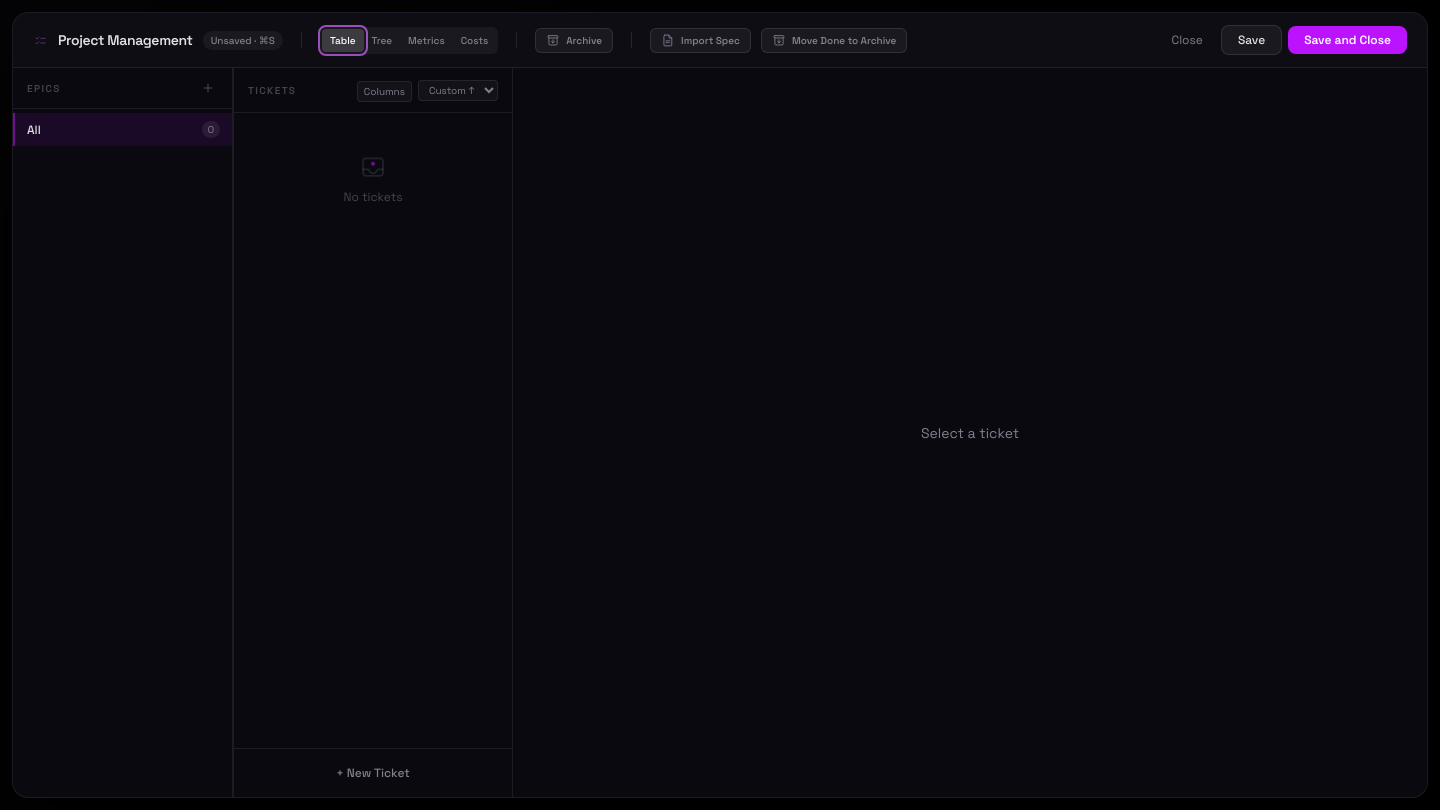
ProjectManagerModal › keeps unsaved changes when the discard is declined
The width and height of the screenshot is (1440, 810).
Click the button "Close" at (1187, 40), box [1160,26,1215,54]
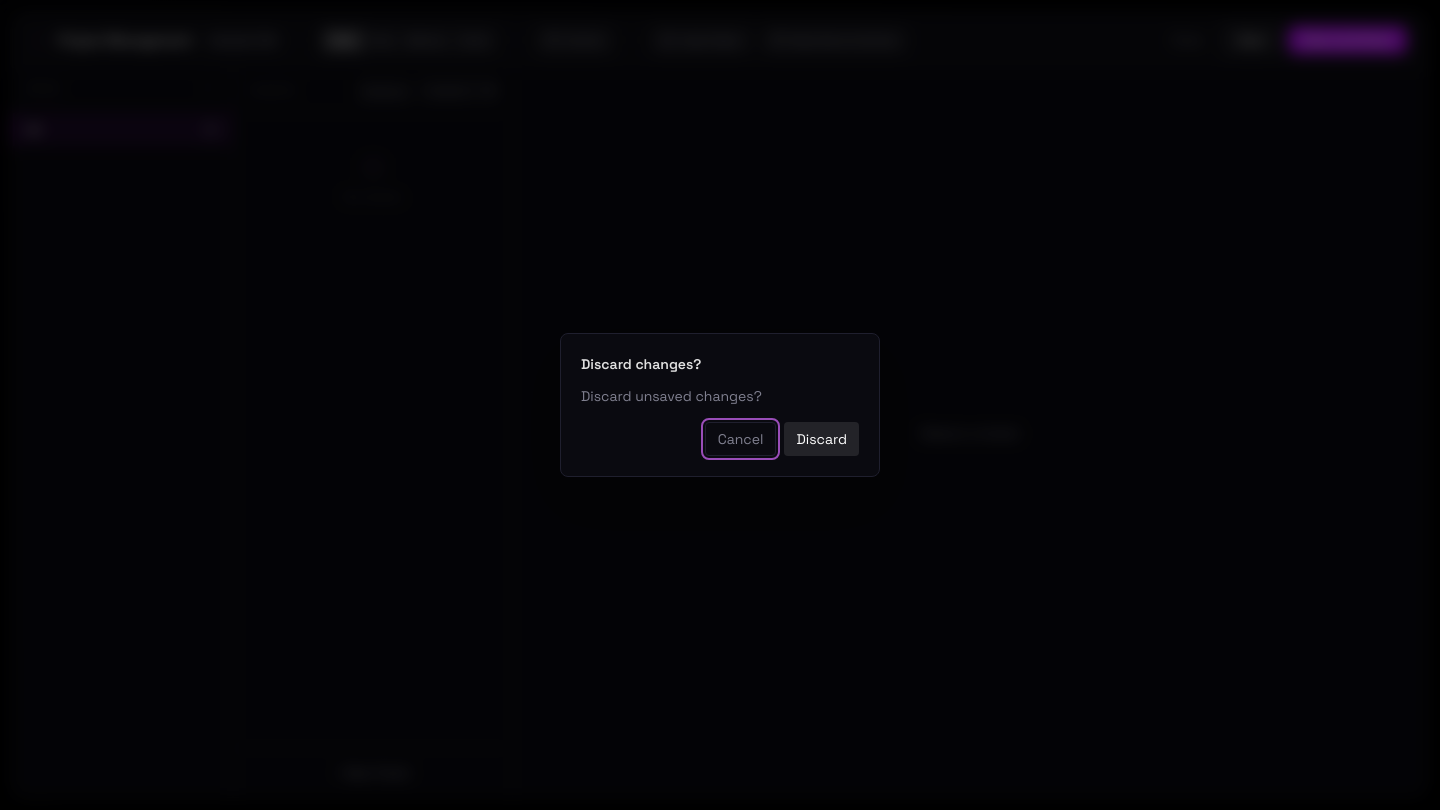
Click the button "Cancel" at (741, 439), box [705,422,776,456]
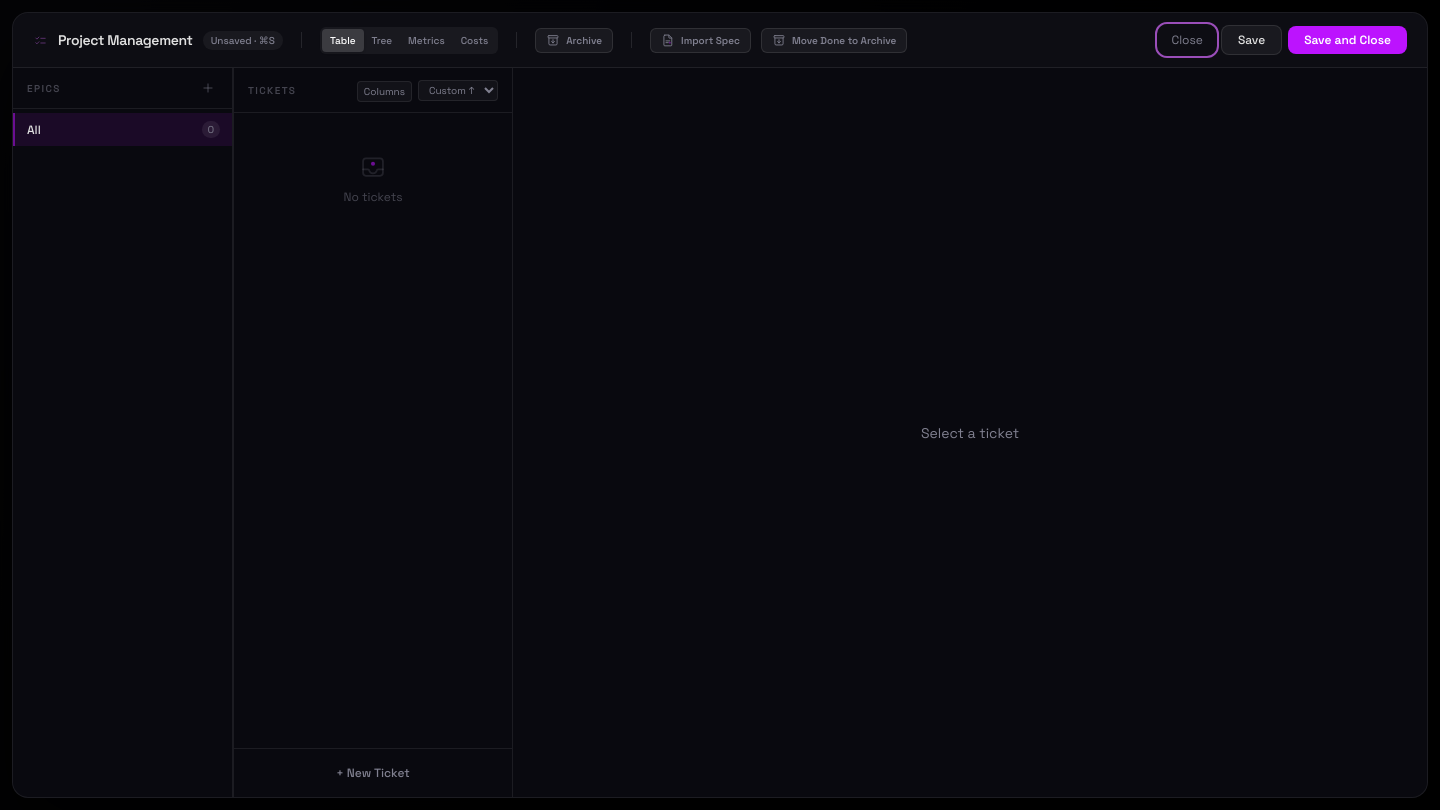
Result: the heading "Discard changes?" is gone
